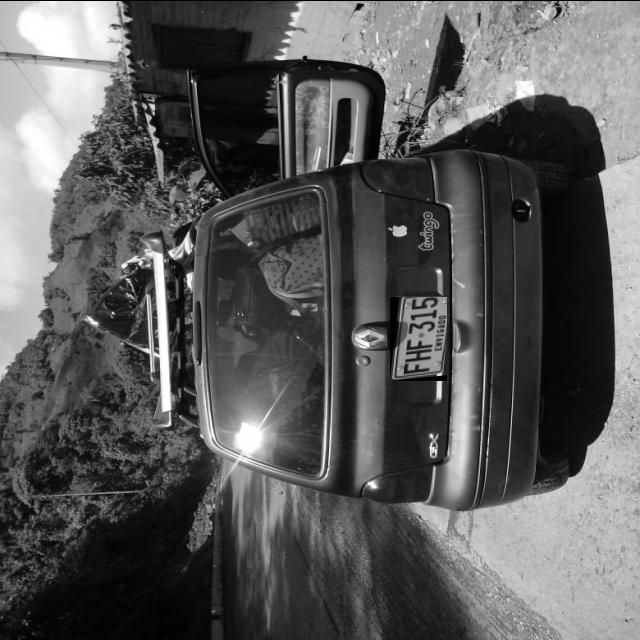plate: (390, 296, 447, 380)
